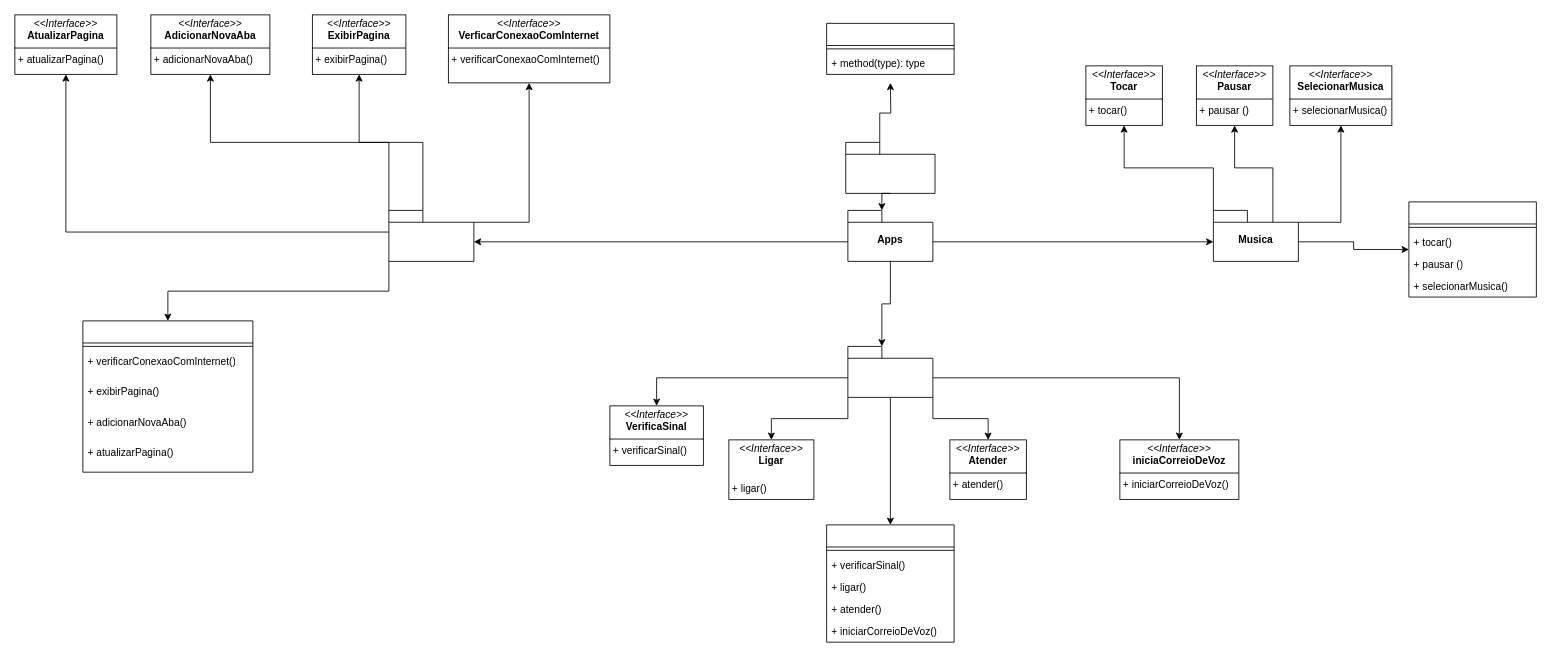
This 1551x660 diagram has some shape labels left out. The shapes that lost their labels are listed below. From the top down, each one's box as (x1, y1, x2, y2) in pixels, then its label:
(826, 23, 954, 74): Iphone
(845, 142, 935, 193): TelefoneMovel
(388, 210, 474, 261): NavegadorWeb
(1408, 201, 1536, 297): Ipod
(847, 346, 933, 397): Telefone
(82, 320, 253, 472): Safari
(826, 524, 954, 642): Phone
